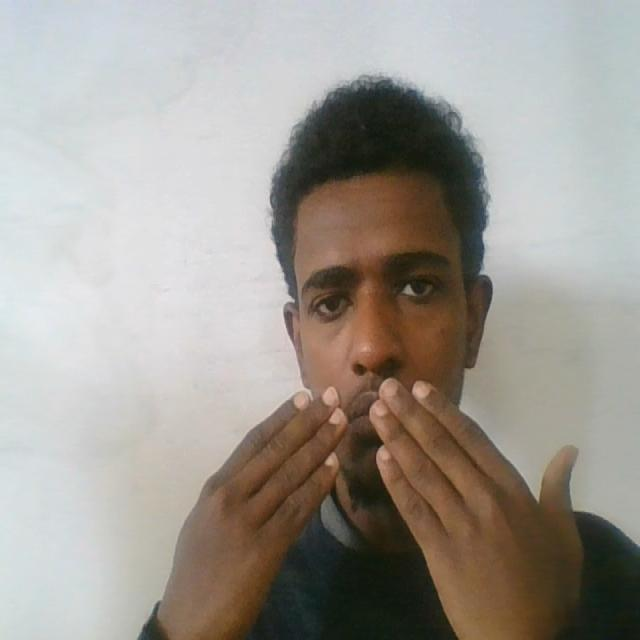thanks: (142, 365, 604, 640)
